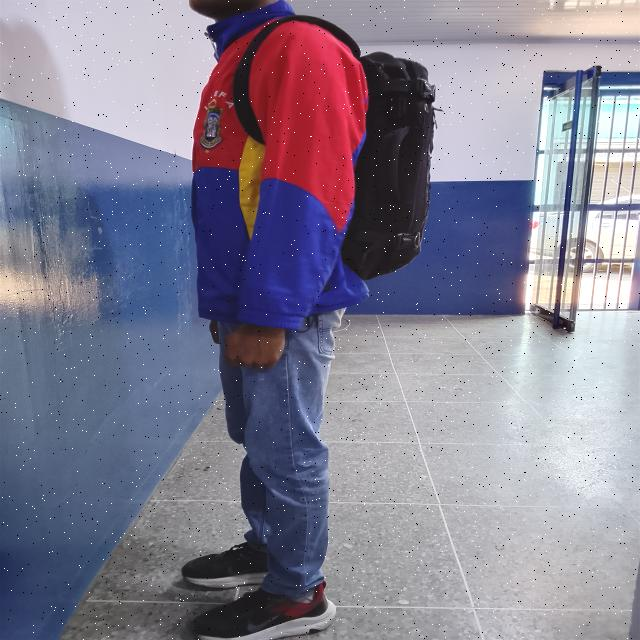chaqueta_unefa: (189, 0, 371, 332)
